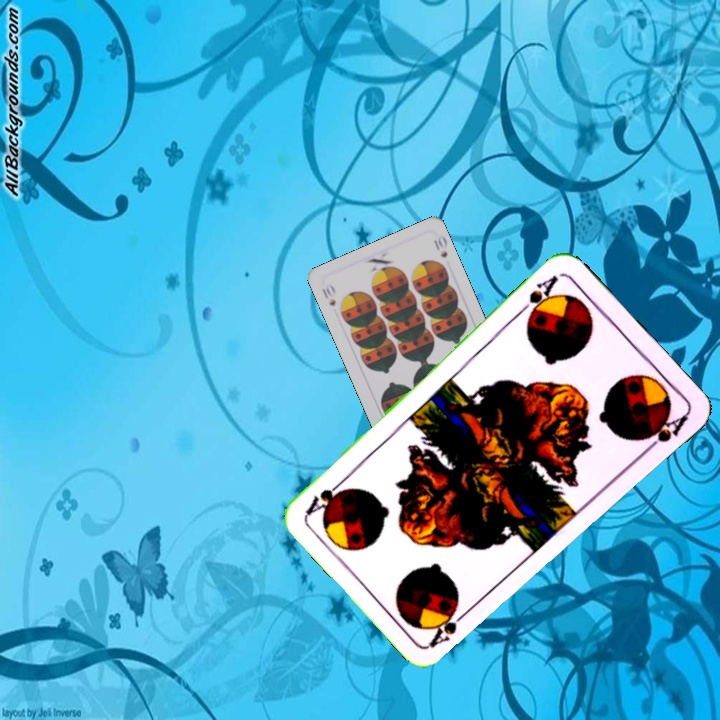S10: (318, 281, 338, 310)
SA: (515, 270, 561, 323), (426, 604, 474, 650)
